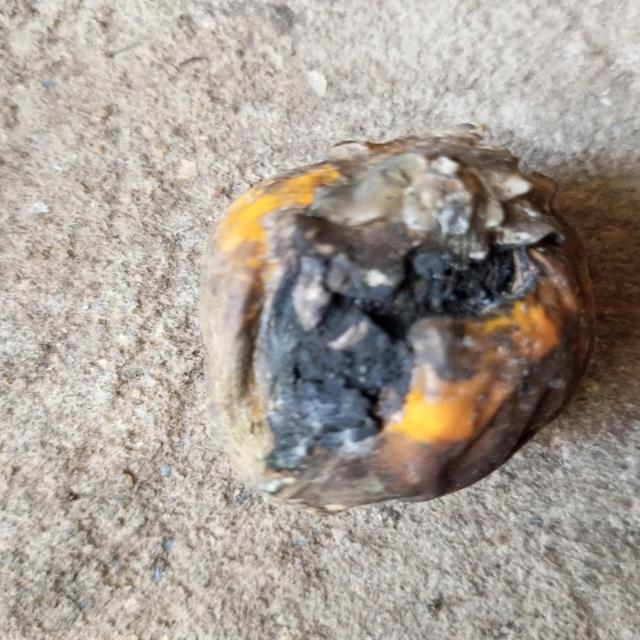damaged: (201, 125, 594, 514)
